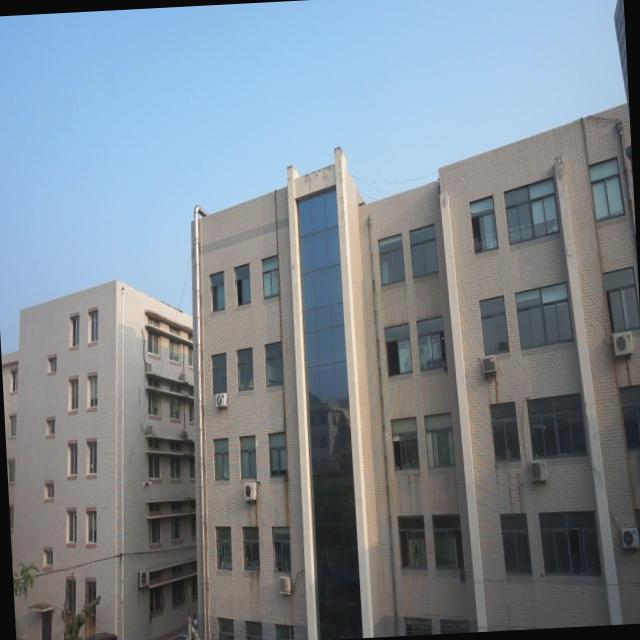drone: (140, 478, 154, 492)
